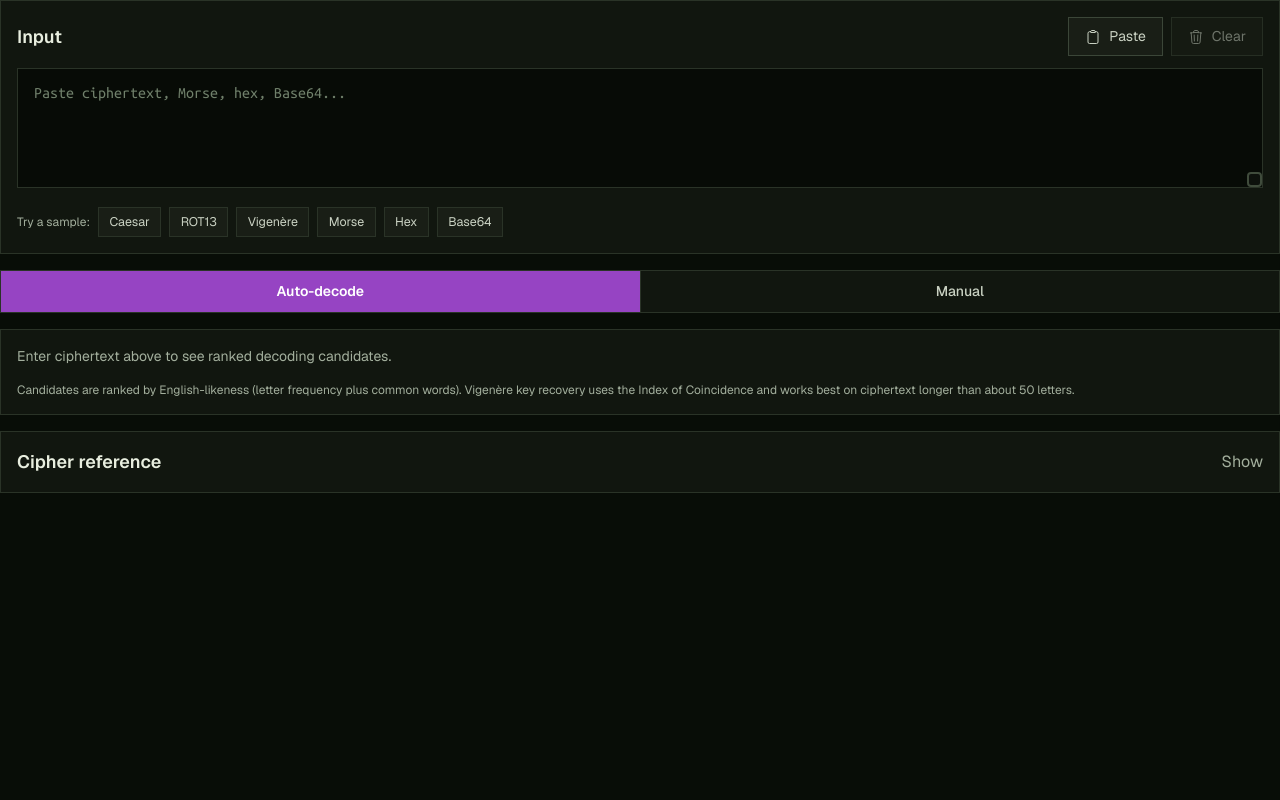
Test case: Cipher decoder › auto-decodes a sample and switches to manual
Click the button "Caesar" at (130, 222), box [98,207,161,237]
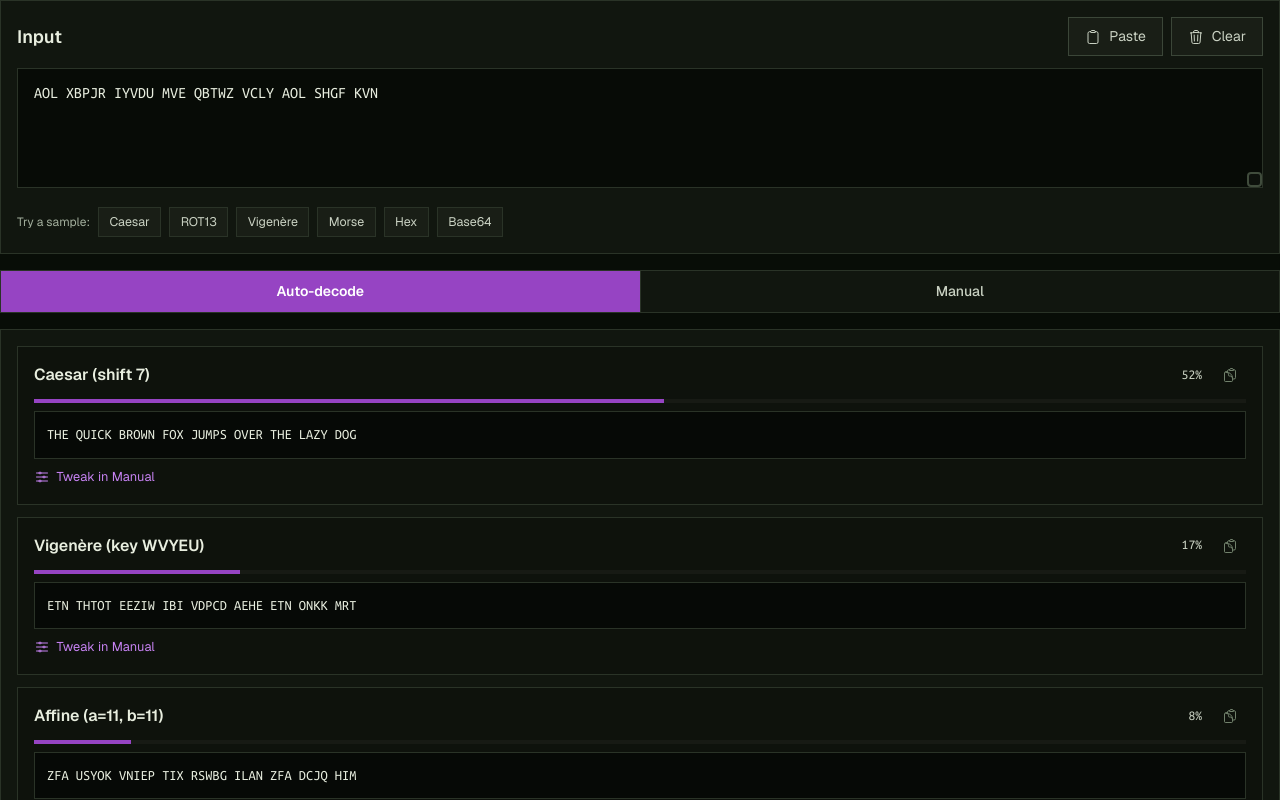
Now the text "THE QUICK BROWN FOX JUMPS OVER THE LAZY DOG" is shown, box [34,411,1246,459]
Click the radio button labelled "Manual" at (960, 292), box [640,271,1279,312]
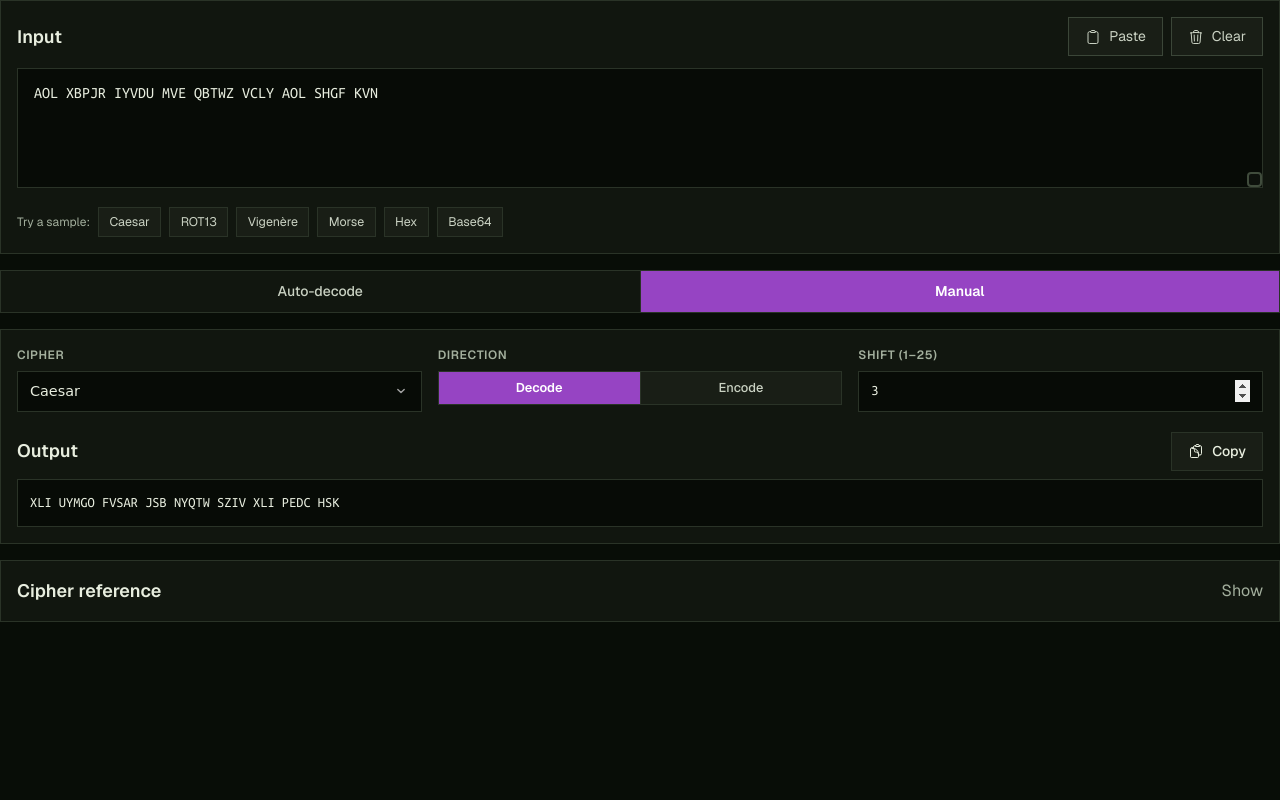
Now the dropdown labelled "Cipher" is shown, box [17,371,422,412]
